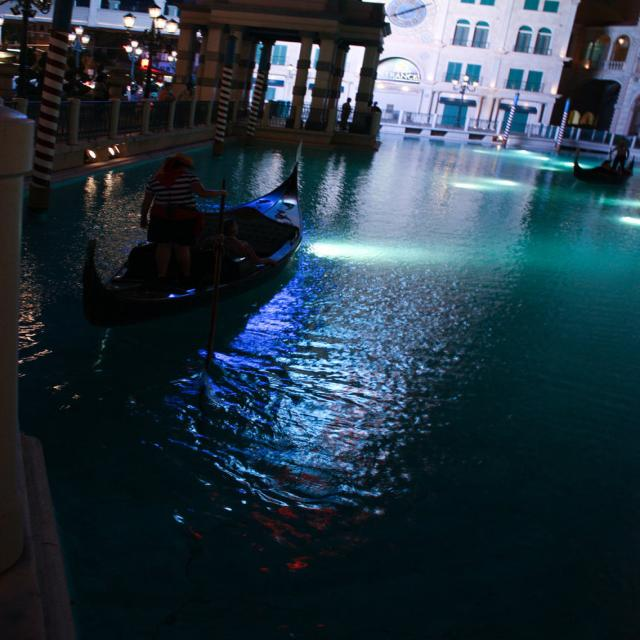Boat: (39, 177, 334, 367), (530, 134, 640, 207)
